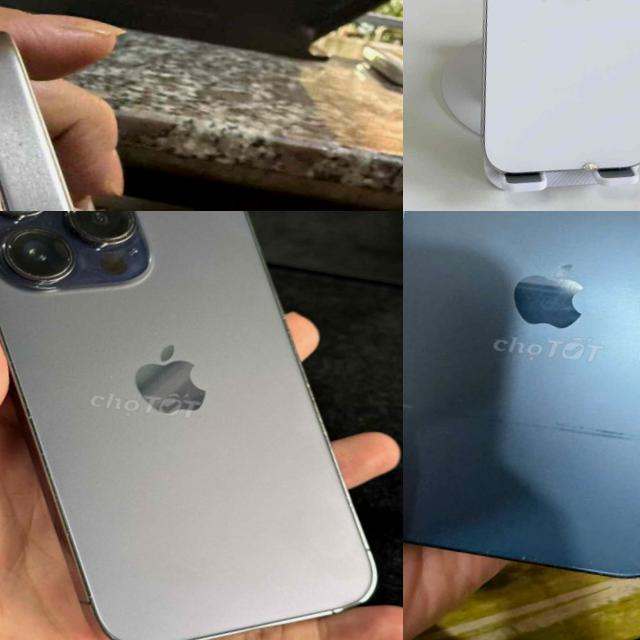scratch: (403, 362, 640, 494)
